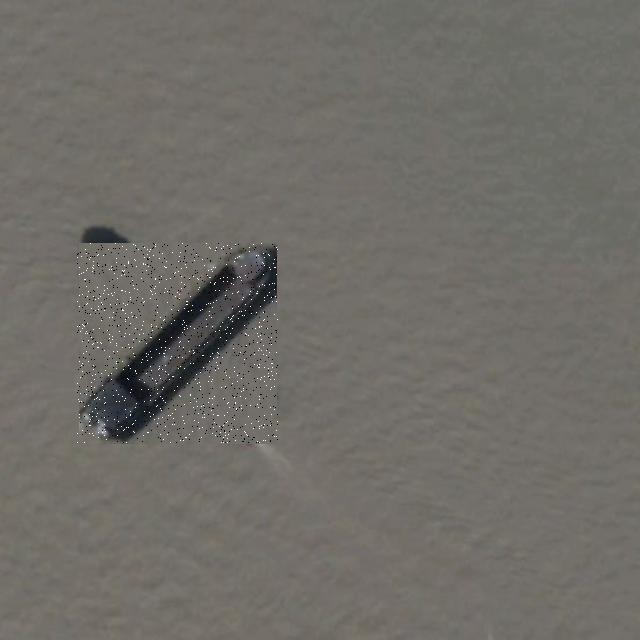boat: (77, 244, 278, 444)
